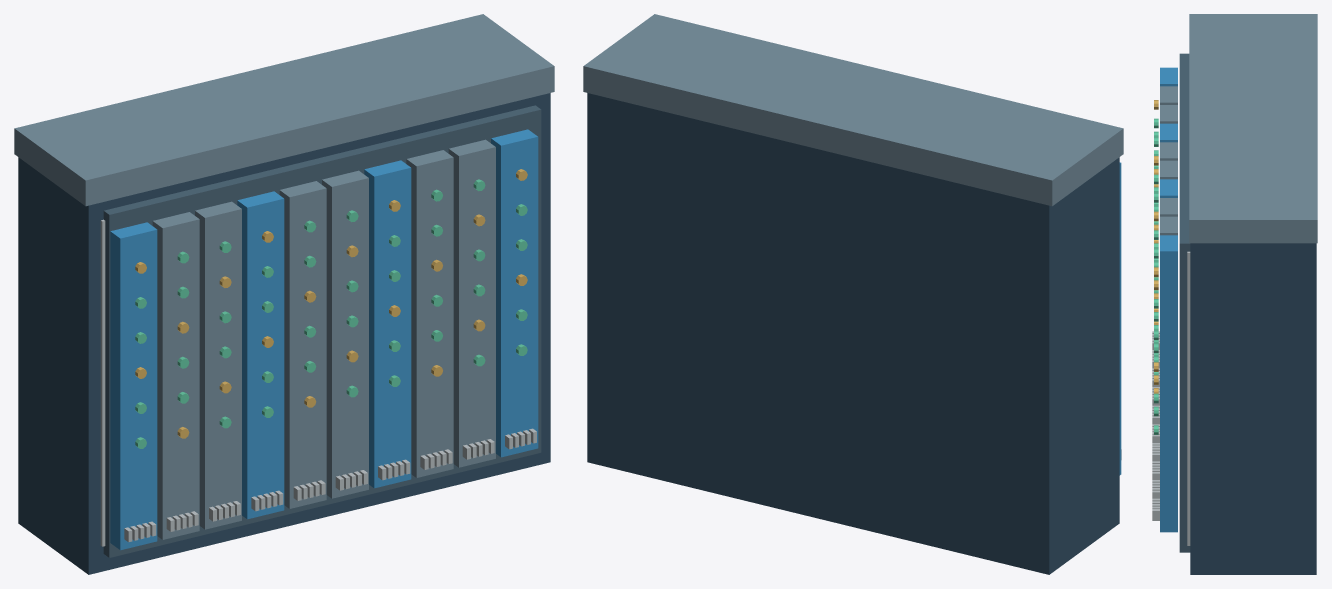
File: 44_L72_AtomicDepositionPLCRack.glb
The picture shows the model from 3 angles, left to right: view 1: azimuth 30°, elevation 25°; view 2: azimuth 150°, elevation 25°; view 3: azimuth 270°, elevation 25°; orthographic projection. The views are drawn at different scales.
Visible parts, largest first — view 1: AtomicDepositionPLCRack_Part_128, AtomicDepositionPLCRack_Part_000, AtomicDepositionPLCRack_Part_007, AtomicDepositionPLCRack_Part_008, AtomicDepositionPLCRack_Part_020, AtomicDepositionPLCRack_Part_056, AtomicDepositionPLCRack_Part_092, AtomicDepositionPLCRack_Part_104, AtomicDepositionPLCRack_Part_044, AtomicDepositionPLCRack_Part_116, AtomicDepositionPLCRack_Part_080, AtomicDepositionPLCRack_Part_032 (+2 smaller); view 2: AtomicDepositionPLCRack_Part_000, AtomicDepositionPLCRack_Part_128, AtomicDepositionPLCRack_Part_008; view 3: AtomicDepositionPLCRack_Part_000, AtomicDepositionPLCRack_Part_128, AtomicDepositionPLCRack_Part_116, AtomicDepositionPLCRack_Part_007, AtomicDepositionPLCRack_Part_006, AtomicDepositionPLCRack_Part_008, AtomicDepositionPLCRack_Part_044, AtomicDepositionPLCRack_Part_068, AtomicDepositionPLCRack_Part_104, AtomicDepositionPLCRack_Part_020, AtomicDepositionPLCRack_Part_032, AtomicDepositionPLCRack_Part_056 (+2 smaller).
Part boxes in pixels (<box>): AtomicDepositionPLCRack_Part_128: <box>14,14,554,206</box>; AtomicDepositionPLCRack_Part_000: <box>18,93,550,574</box>; AtomicDepositionPLCRack_Part_007: <box>103,105,541,557</box>; AtomicDepositionPLCRack_Part_008: <box>110,222,157,550</box>; AtomicDepositionPLCRack_Part_020: <box>152,212,199,539</box>; AtomicDepositionPLCRack_Part_056: <box>279,181,326,508</box>; AtomicDepositionPLCRack_Part_092: <box>406,150,453,477</box>; AtomicDepositionPLCRack_Part_104: <box>448,139,495,467</box>; AtomicDepositionPLCRack_Part_044: <box>237,191,284,519</box>; AtomicDepositionPLCRack_Part_116: <box>491,129,538,457</box>; AtomicDepositionPLCRack_Part_080: <box>364,160,411,488</box>; AtomicDepositionPLCRack_Part_032: <box>195,201,241,529</box>; AtomicDepositionPLCRack_Part_000: <box>587,93,1119,574</box>; AtomicDepositionPLCRack_Part_128: <box>583,14,1123,206</box>; AtomicDepositionPLCRack_Part_008: <box>1119,162,1121,475</box>; AtomicDepositionPLCRack_Part_000: <box>1190,243,1316,574</box>; AtomicDepositionPLCRack_Part_128: <box>1189,14,1317,243</box>; AtomicDepositionPLCRack_Part_116: <box>1160,235,1177,532</box>; AtomicDepositionPLCRack_Part_007: <box>1179,53,1190,552</box>; AtomicDepositionPLCRack_Part_006: <box>1187,251,1190,545</box>; AtomicDepositionPLCRack_Part_008: <box>1160,67,1177,86</box>; AtomicDepositionPLCRack_Part_044: <box>1160,123,1177,142</box>; AtomicDepositionPLCRack_Part_068: <box>1160,160,1177,179</box>; AtomicDepositionPLCRack_Part_104: <box>1160,216,1177,235</box>; AtomicDepositionPLCRack_Part_020: <box>1160,86,1177,104</box>; AtomicDepositionPLCRack_Part_032: <box>1160,105,1177,123</box>; AtomicDepositionPLCRack_Part_056: <box>1160,142,1177,160</box>.
Bounding box in the file's own units: 2.66 × 2.15 × 0.901.
